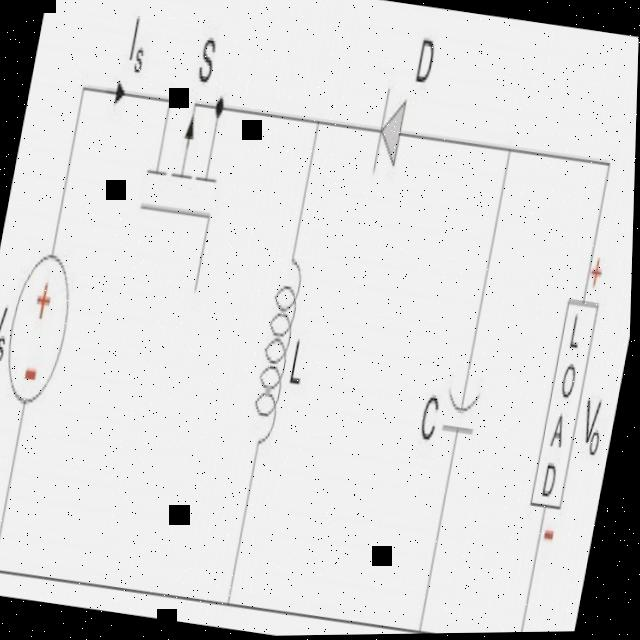capacitor: (427, 350, 498, 474)
diode: (360, 80, 422, 200)
inductor: (239, 238, 317, 464)
mosfet: (114, 74, 248, 314)
node: (202, 78, 237, 140)
resistor: (522, 272, 614, 527)
source: (0, 217, 89, 423)
